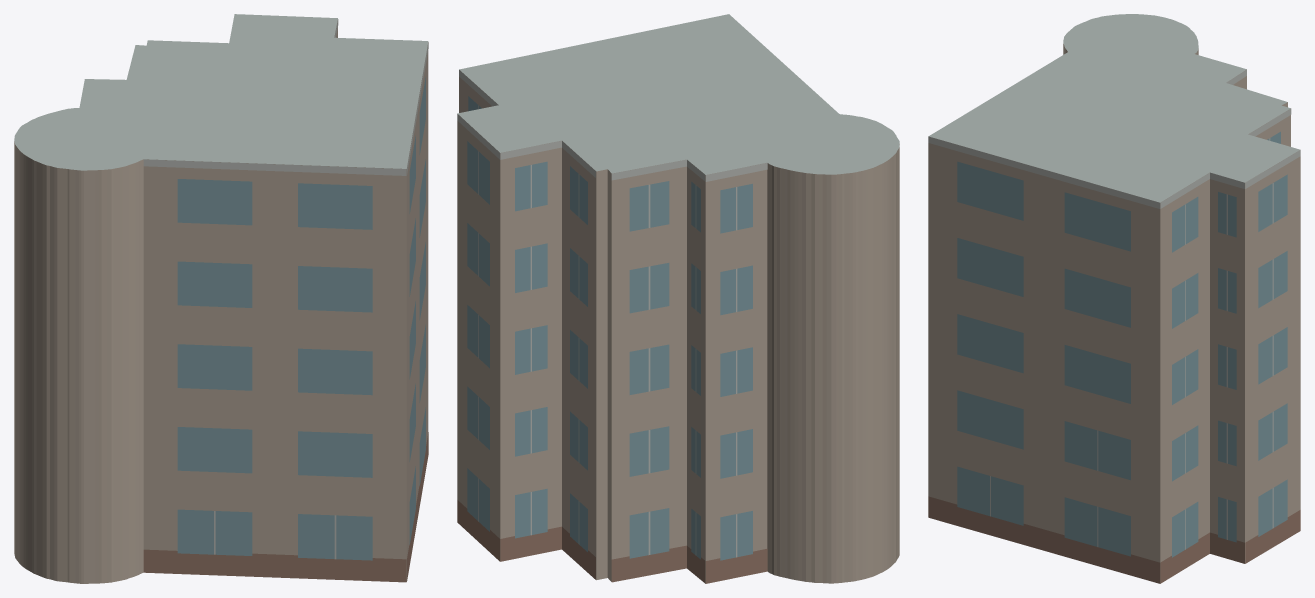
The model's file is survey-upis-32669443.glb.
The picture shows the model from 3 angles, left to right: view 1: azimuth 30°, elevation 25°; view 2: azimuth 150°, elevation 25°; view 3: azimuth 270°, elevation 25°; orthographic projection. The views are drawn at different scales.
Parts seen in each view (by area): view 1: survey-upis-32669443.tmp; view 2: survey-upis-32669443.tmp; view 3: survey-upis-32669443.tmp.
Boxes of the visible parts, bbox=[...] form: survey-upis-32669443.tmp: bbox=[14, 14, 428, 583]; survey-upis-32669443.tmp: bbox=[457, 14, 899, 583]; survey-upis-32669443.tmp: bbox=[928, 14, 1300, 583].
Bounding box in the file's own units: 15.19 × 14.3 × 12.66.
